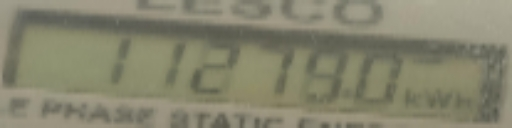0: (355, 55, 405, 107)
1: (104, 23, 134, 90), (160, 36, 189, 97)
2: (194, 34, 239, 100)
7: (251, 44, 299, 105)
9: (302, 42, 346, 103)
d: (340, 85, 354, 99)
